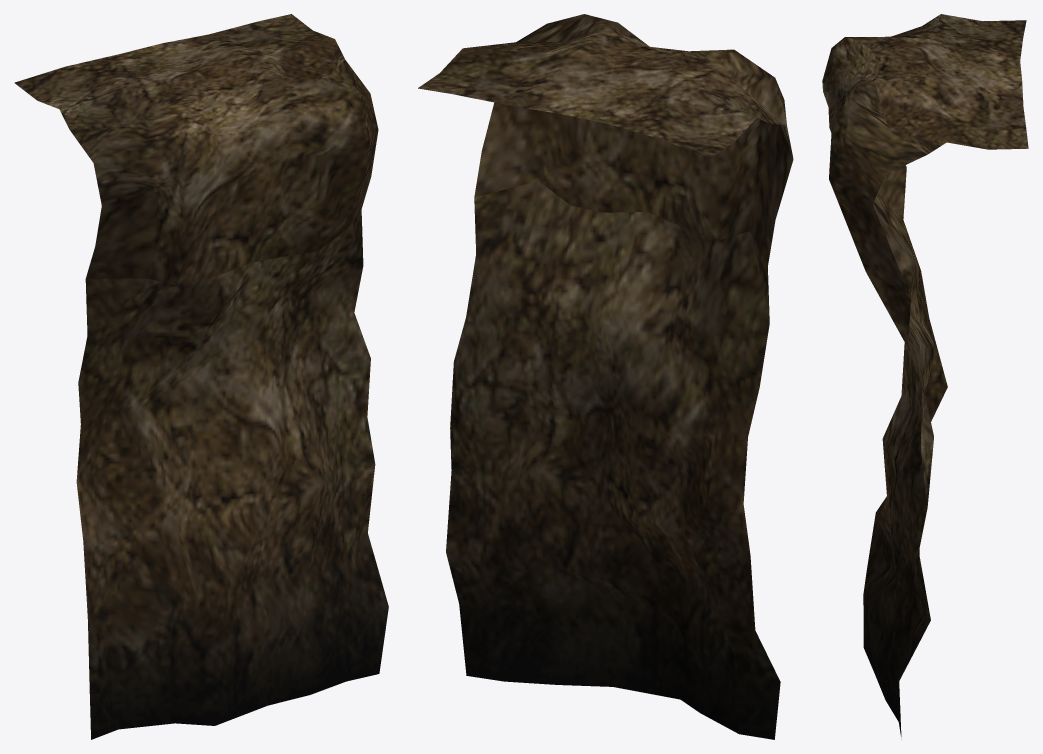
3 renders of one model, left to right at view 1: azimuth 30°, elevation 25°; view 2: azimuth 150°, elevation 25°; view 3: azimuth 270°, elevation 25°, orthographic. The views are drawn at different scales.
Visible parts, largest first — view 1: a76; view 2: a76; view 3: a76.
Part boxes in pixels (x1,y1,x2,y2): a76: (14, 14, 388, 739); a76: (418, 14, 793, 739); a76: (822, 14, 1028, 739).
Bounding box in the file's own units: 1859 × 3689 × 1144.
1 material, 1 textured.
